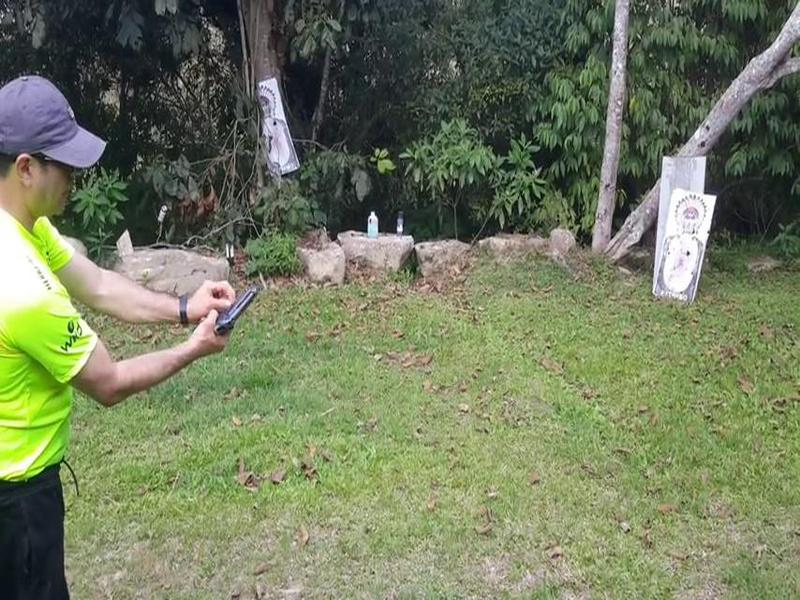Pistola: (192, 281, 262, 344)
